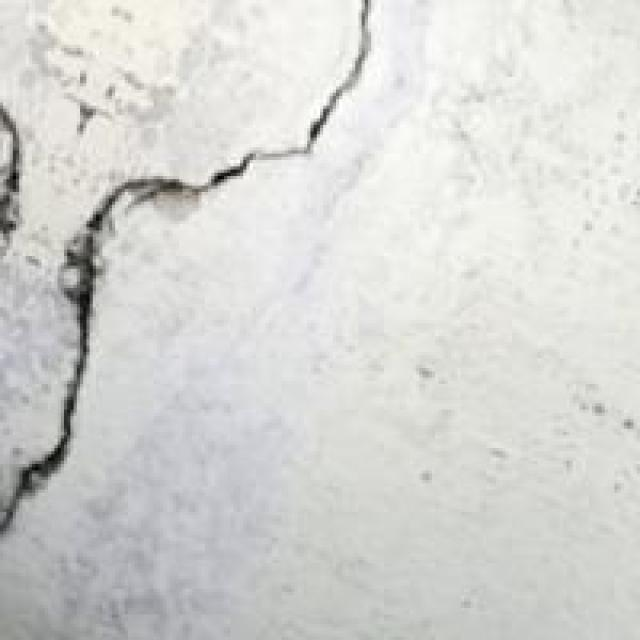crack: (0, 0, 394, 579)
